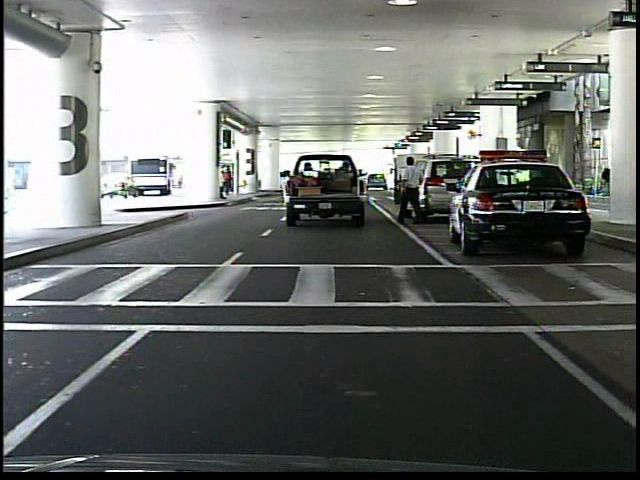person: (392, 155, 430, 229), (223, 160, 237, 201)
